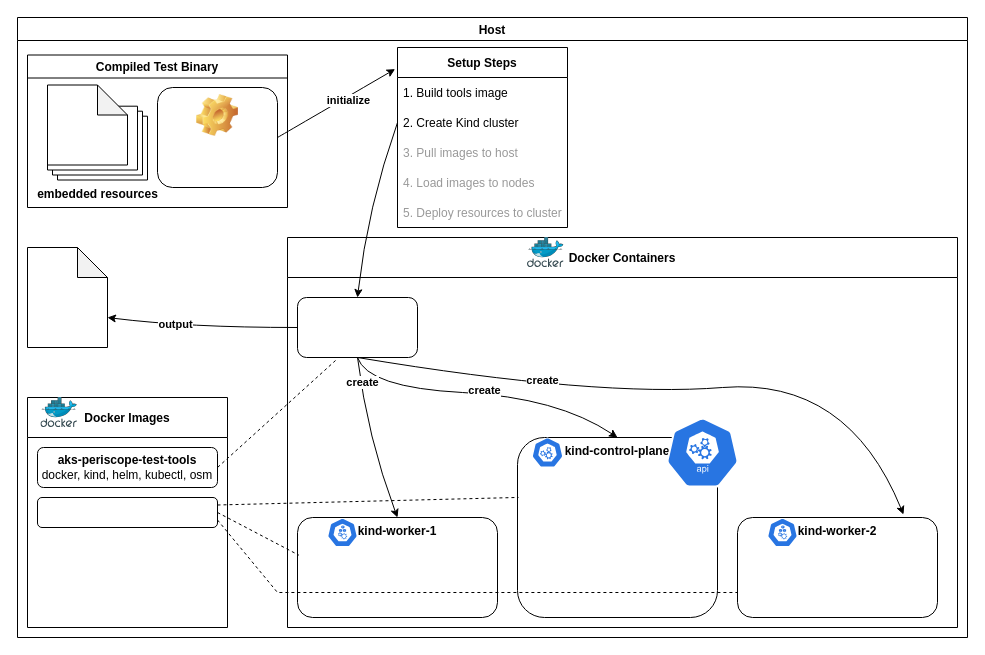
The diagram is 985 pixels wide and 655 high, and some of its shapes have lost their labels. The shapes that lost their labels are listed below. From the top down, each one's centre as x and y in pixels, then its label:
point 87,124: Dockerfile
point 217,137: TestMain
point 67,297: kubeconfig
point 357,327: tool-runner kind create cluster
point 127,512: kind-node-image
